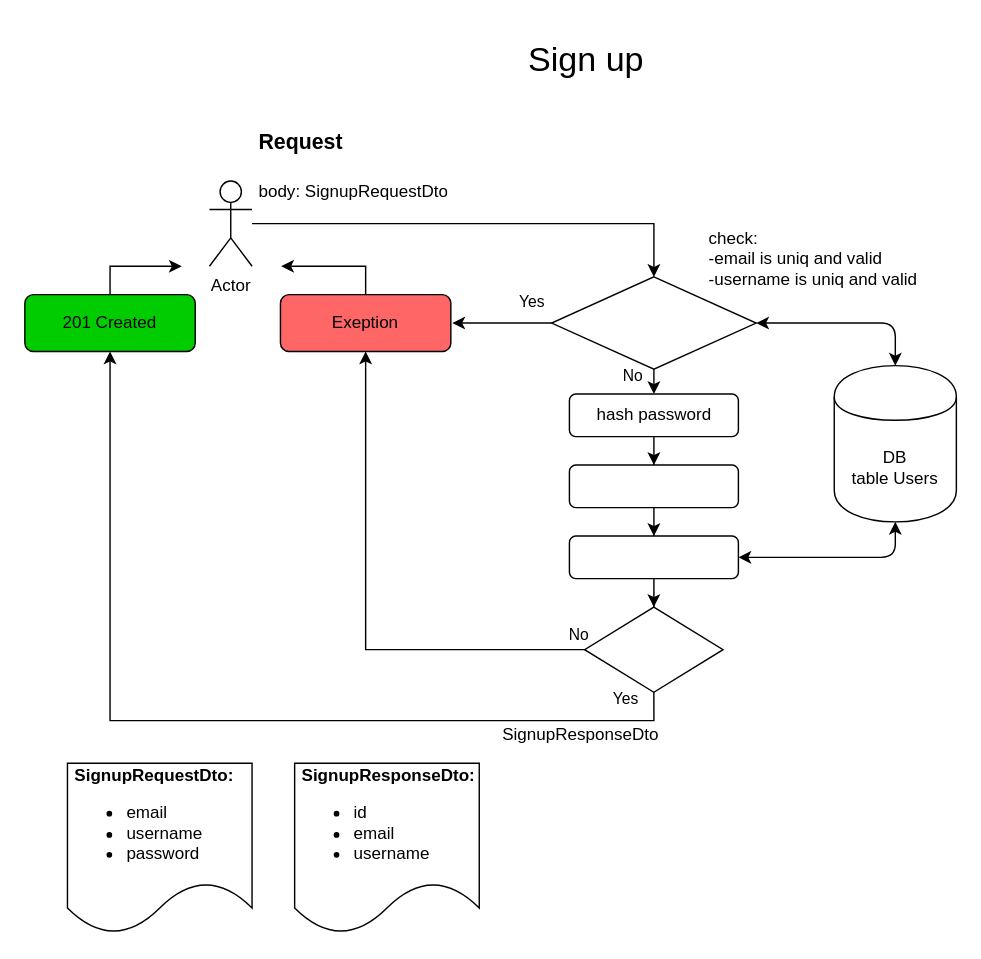
The diagram is 981 pixels wide and 959 high, and some of its shapes have lost their labels. The box of each missing label's shape, as (x1, y1, x2, y2) in pixels:
is success?: (583, 606, 723, 692)
is user already exist?: (550, 275, 756, 369)
save entity to DB: (568, 535, 738, 579)
set default role: (568, 464, 738, 508)
